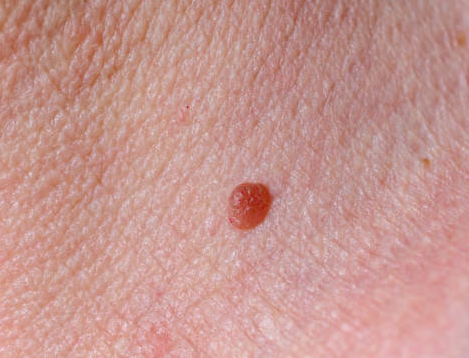Normal: (226, 181, 271, 229)
